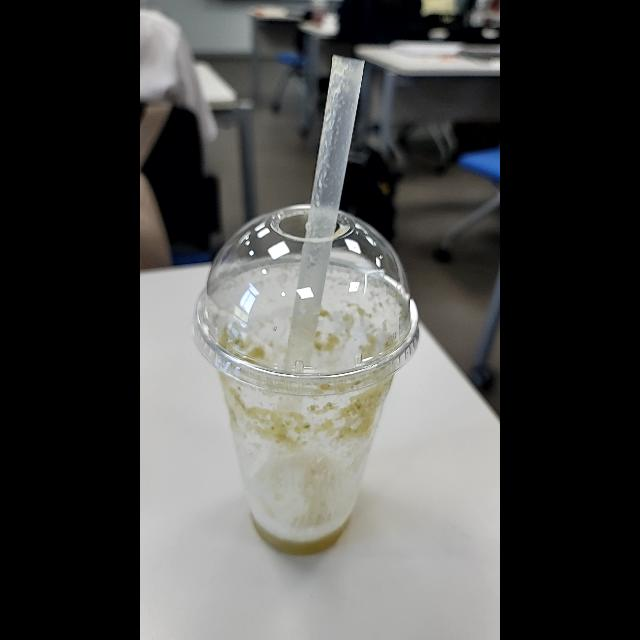plastic_cup: (196, 200, 424, 566)
plastic_cup_lid: (193, 205, 425, 398)
straw: (284, 59, 365, 364)
